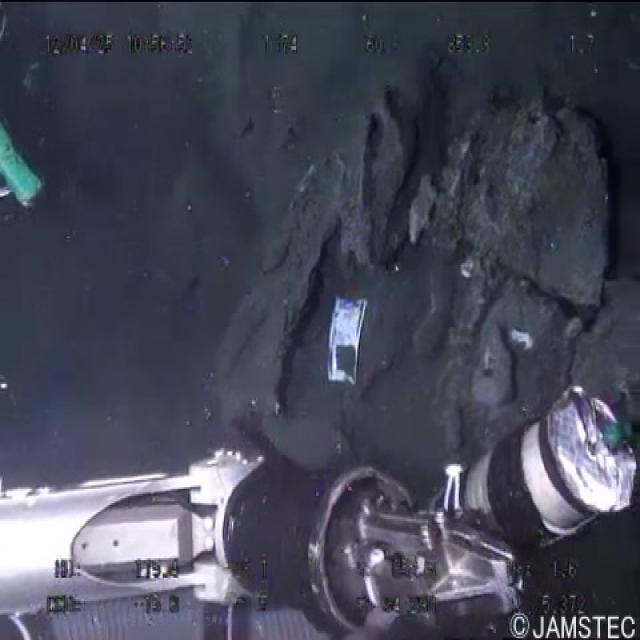plastic: (323, 288, 369, 391)
